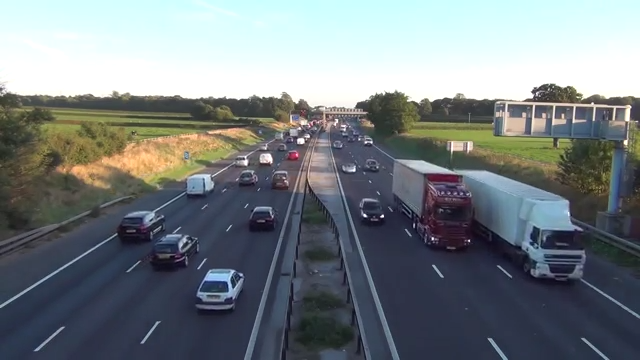car: (195, 263, 250, 316), (147, 231, 202, 273), (114, 207, 166, 244), (354, 193, 390, 231), (246, 203, 281, 236), (269, 166, 293, 197), (236, 167, 260, 190), (337, 156, 359, 178), (363, 154, 379, 181), (230, 150, 250, 169), (330, 135, 345, 154), (285, 146, 300, 163), (358, 135, 376, 145)
truck: (448, 161, 594, 290), (386, 152, 480, 257)
van: (181, 170, 219, 202), (256, 149, 276, 170)
